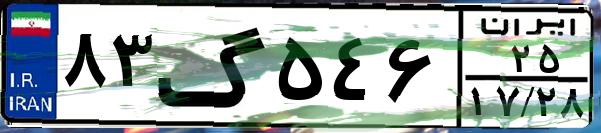1: (470, 70, 495, 125)
2: (508, 27, 537, 80), (535, 70, 560, 125)
3: (110, 28, 156, 98)
4: (330, 28, 385, 110)
5: (270, 28, 330, 110), (537, 27, 568, 80)
6: (385, 28, 445, 110)
7: (495, 70, 520, 125)
8: (57, 26, 110, 100), (560, 70, 590, 125)
گ: (156, 12, 270, 120)
